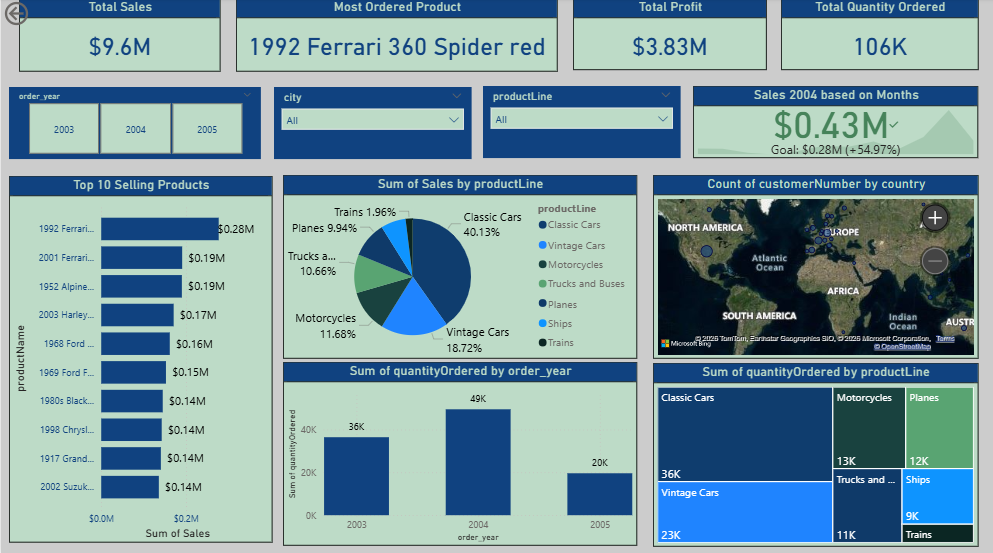

The dashboard page shown, as its layout file describes it:
{"tool":"powerbi","page":{"name":"Executive Summary Dashboard","canvas":[1280,720],"ordinal":0},"visuals":[{"type":"card","title":"Total Sales","fields":{"Values":["customers.total_sales"]},"box":[23.3,0,260,95],"z":0},{"type":"card","title":"Most Ordered Product","fields":{"Values":["customers.most_ordered_product"]},"box":[303.3,0,415,95],"z":1000},{"type":"card","title":"Total Profit","fields":{"Values":["order details.total_profit"]},"box":[738.3,0,250,93.3],"z":2000},{"type":"barChart","title":"Top 10 Selling Products","fields":{"Category":["products.productName"],"Y":["Sum(order details.Sales)"]},"box":[10.1,230.1,339.3,477.1],"z":3000},{"type":"pieChart","fields":{"Category":["products.productLine"],"Y":["Sum(order details.Sales)"]},"box":[363.3,228.3,456.7,236.7],"z":4000},{"type":"slicer","fields":{"Values":["orders.order_year"]},"box":[10,115,325,93.3],"z":5000},{"type":"card","title":"Total Quantity Ordered","fields":{"Values":["customers.total_quant_order"]},"box":[1006.7,0,255,93.3],"z":6000},{"type":"kpi","title":"Sales 2004 based on Months","fields":{"Indicator":["orders.sales_2004"],"Goal":["orders.sales_2003"],"TrendLine":["orders.Month_no"]},"box":[893.3,113.3,368.3,93.3],"z":7000},{"type":"map","fields":{"Size":["CountNonNull(customers.customerNumber)"],"Category":["customers.country"]},"box":[841.7,228.3,420,236.7],"z":8000},{"type":"treemap","fields":{"Group":["productlines.productLine"],"Values":["Sum(order details.quantityOrdered)"]},"box":[841.9,470.6,419.5,236.7],"z":9000},{"type":"columnChart","fields":{"Category":["orders.order_year"],"Y":["Sum(order details.quantityOrdered)"]},"box":[363.3,470,456.7,236.7],"z":10000},{"type":"slicer","fields":{"Values":["offices.city"]},"box":[351.7,115,255,93.3],"z":11000},{"type":"slicer","fields":{"Values":["productlines.productLine"]},"box":[621.7,113.3,255,93.3],"z":12000},{"type":"actionButton","box":[779.5,229.6,39.7,39.7],"z":13000}]}

Visuals, with their boxes in screenshot pixels (x1, y1, x2, y2), scaled from the page's 1280x720 canvas onto the 993x553 screenshot:
"Total Sales" card: [left=18, top=0, right=220, bottom=73]
"Most Ordered Product" card: [left=235, top=0, right=557, bottom=73]
"Total Profit" card: [left=573, top=0, right=767, bottom=72]
"Top 10 Selling Products" barChart: [left=8, top=177, right=271, bottom=543]
pieChart - products.productLine x Sum(order details.Sales): [left=282, top=175, right=636, bottom=357]
slicer - orders.order_year: [left=8, top=88, right=260, bottom=160]
"Total Quantity Ordered" card: [left=781, top=0, right=979, bottom=72]
"Sales 2004 based on Months" kpi: [left=693, top=87, right=979, bottom=159]
map - CountNonNull(customers.customerNumber) x customers.country: [left=653, top=175, right=979, bottom=357]
treemap - productlines.productLine x Sum(order details.quantityOrdered): [left=653, top=361, right=979, bottom=543]
columnChart - orders.order_year x Sum(order details.quantityOrdered): [left=282, top=361, right=636, bottom=543]
slicer - offices.city: [left=273, top=88, right=471, bottom=160]
slicer - productlines.productLine: [left=482, top=87, right=680, bottom=159]
actionButton: [left=605, top=176, right=636, bottom=207]
